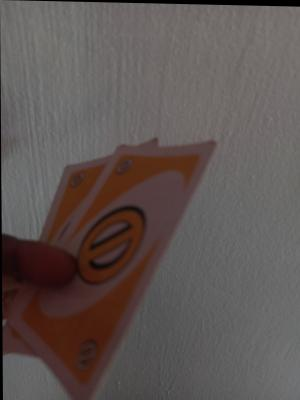skip: (72, 339, 104, 364), (114, 157, 142, 182), (70, 172, 89, 188)
